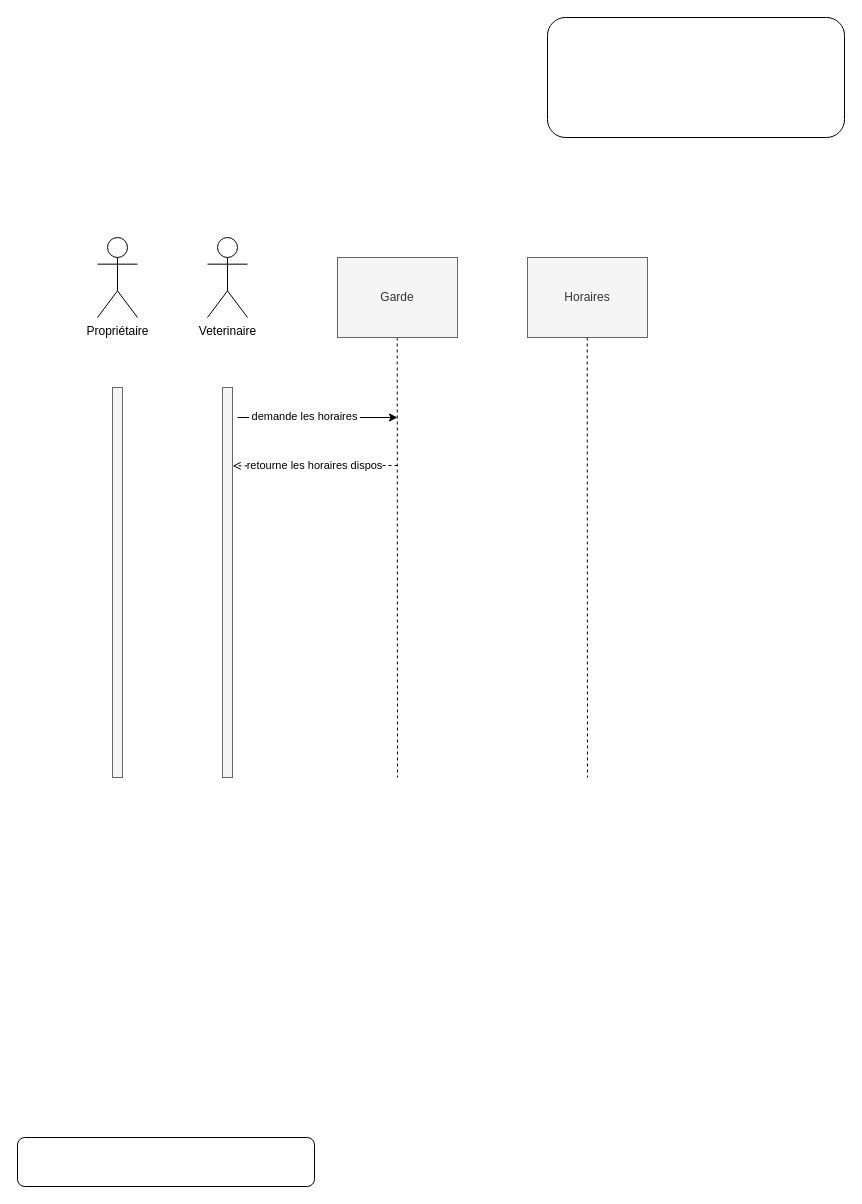
This 862x1204 diagram has some shape labels left out. The shapes that lost their labels are listed below. From the top down, each one's centre as x and y in pixels, then its label:
point 695,77: Effectuer une garde veterinaire
point 165,1161: Diagramme de séquences
